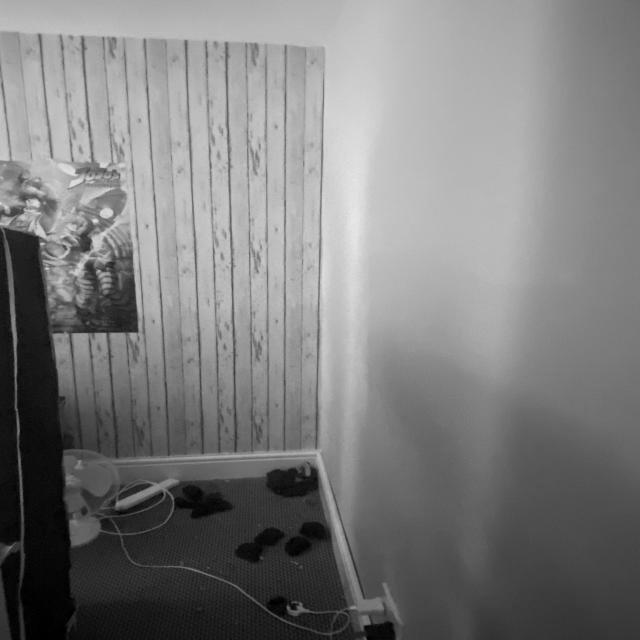stain marks: (494, 390, 640, 530), (362, 338, 488, 482), (509, 533, 640, 636), (420, 478, 500, 543)
